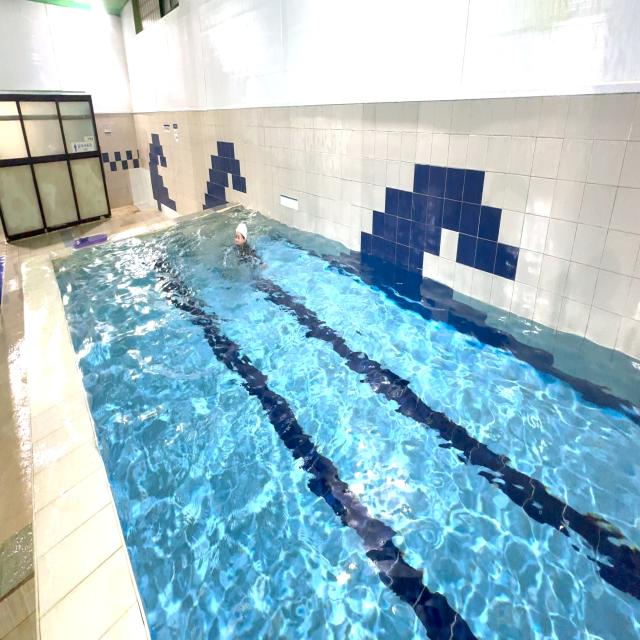Drowning: (215, 210, 273, 279)
